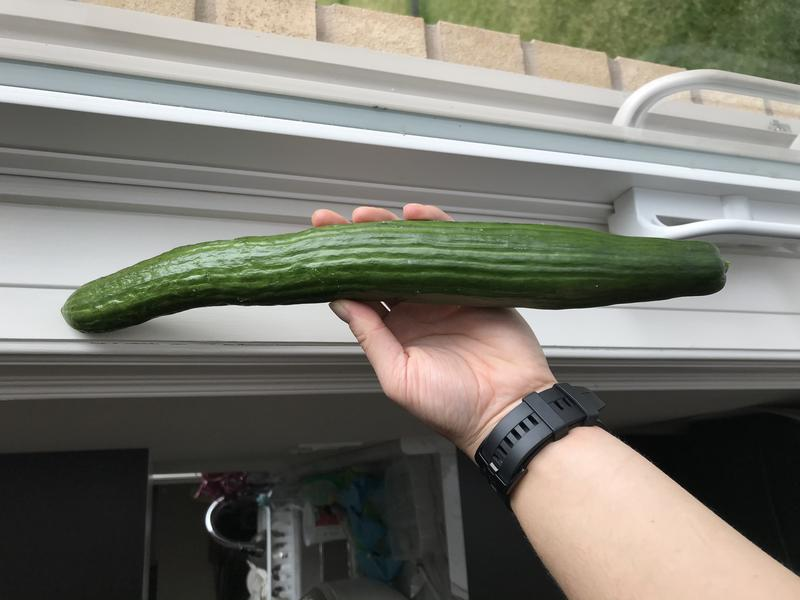cucumber: (43, 215, 745, 352)
